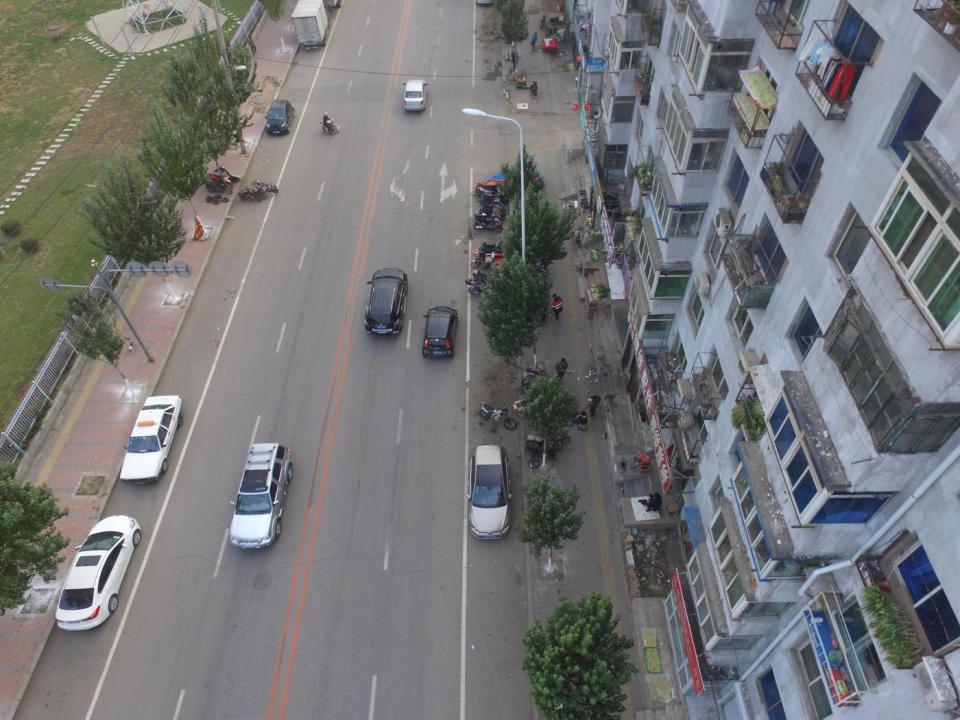car: (54, 515, 141, 632), (229, 442, 293, 549), (119, 395, 184, 486), (465, 444, 514, 540), (363, 267, 410, 336), (422, 305, 458, 360), (264, 99, 296, 135), (402, 79, 428, 111)
truck: (291, 0, 330, 49)
